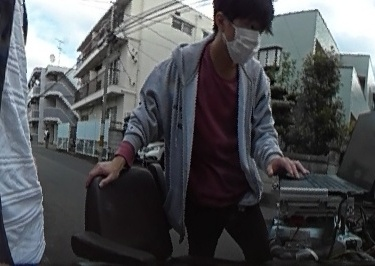person: (134, 0, 288, 263), (43, 126, 50, 147)
